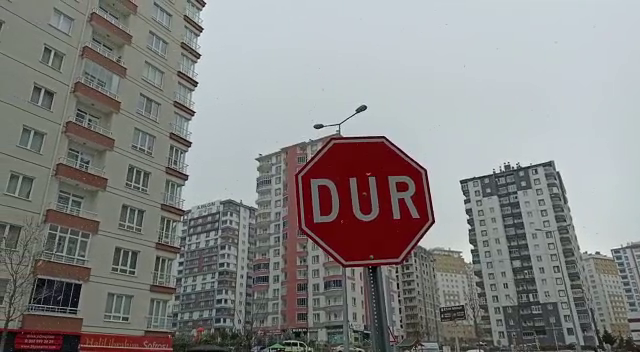stop: (292, 132, 440, 271)
